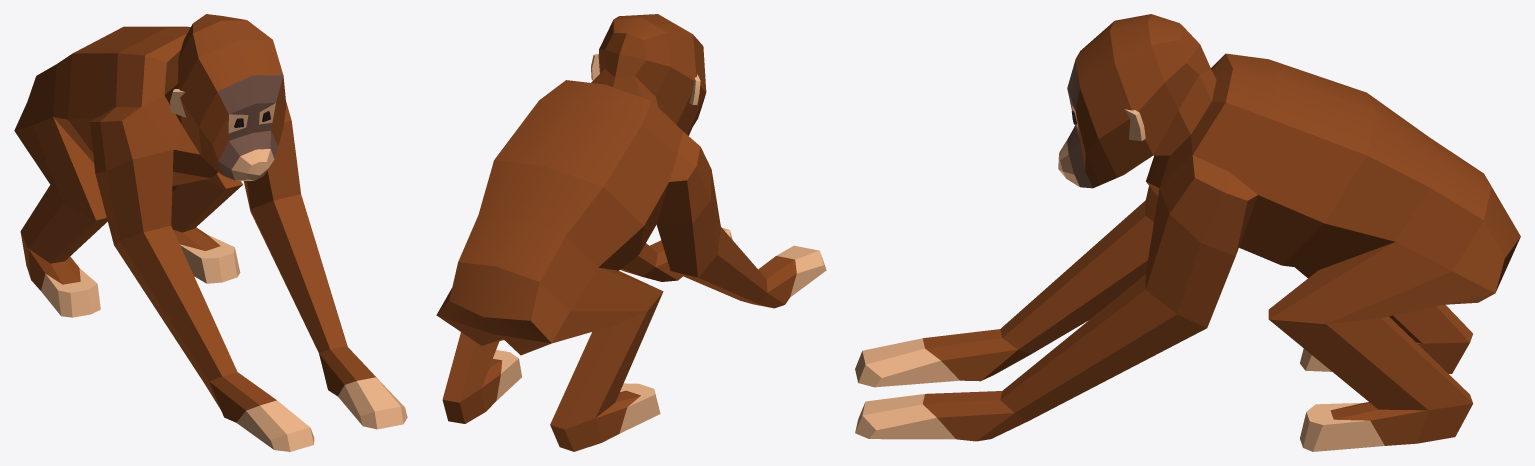
Rendered from Mesh_Ape.gltf.
The picture shows the model from 3 angles, left to right: view 1: azimuth 30°, elevation 25°; view 2: azimuth 150°, elevation 25°; view 3: azimuth 270°, elevation 25°; orthographic projection. The views are drawn at different scales.
Visible parts, largest first — view 1: node-0; view 2: node-0; view 3: node-0.
Part boxes in pixels (bbox=[...]): node-0: bbox=[14, 14, 407, 451]; node-0: bbox=[436, 14, 826, 451]; node-0: bbox=[855, 14, 1520, 451].
Size of the model in its own units: 29.11 by 49.02 by 77.89.
1 material, 1 textured.
